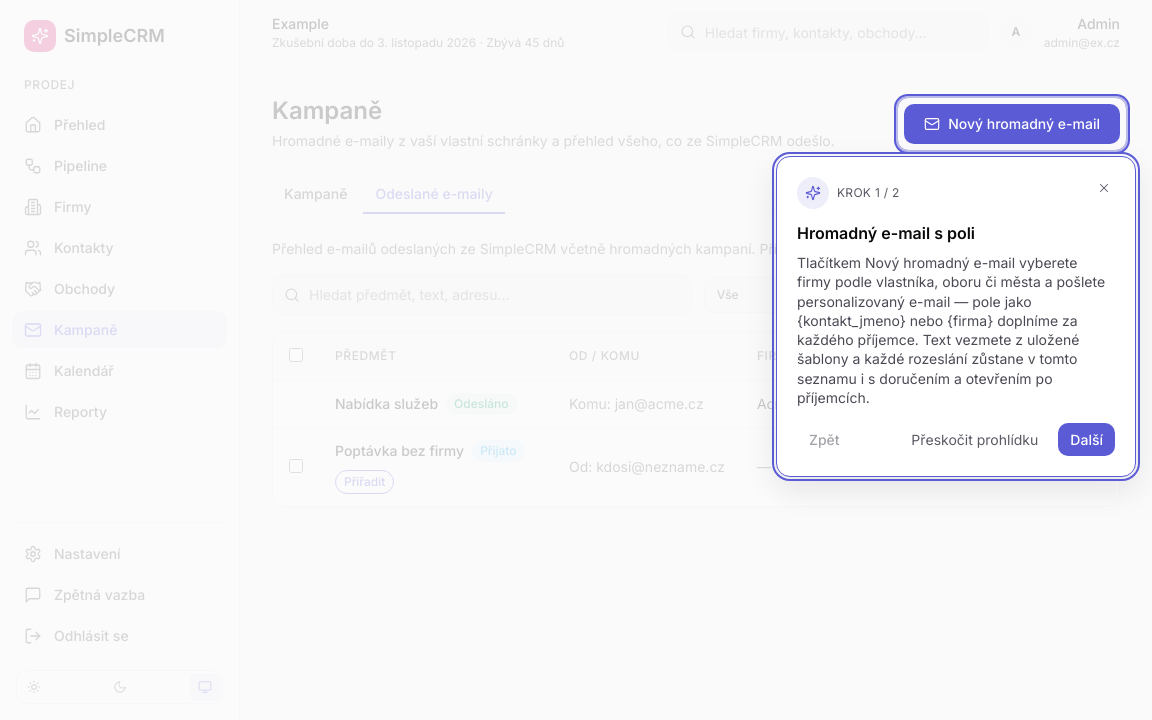
Test: Kampaně page › offers Přiřadit only on unmatched rows and opens the link dialog
The width and height of the screenshot is (1152, 720).
Expected: the button "Poptávka bez firmy" is shown, x1=335 y1=440 x2=464 y2=461
Click the button "Přiřadit" at (365, 482), box x1=335 y1=470 x2=394 y2=494
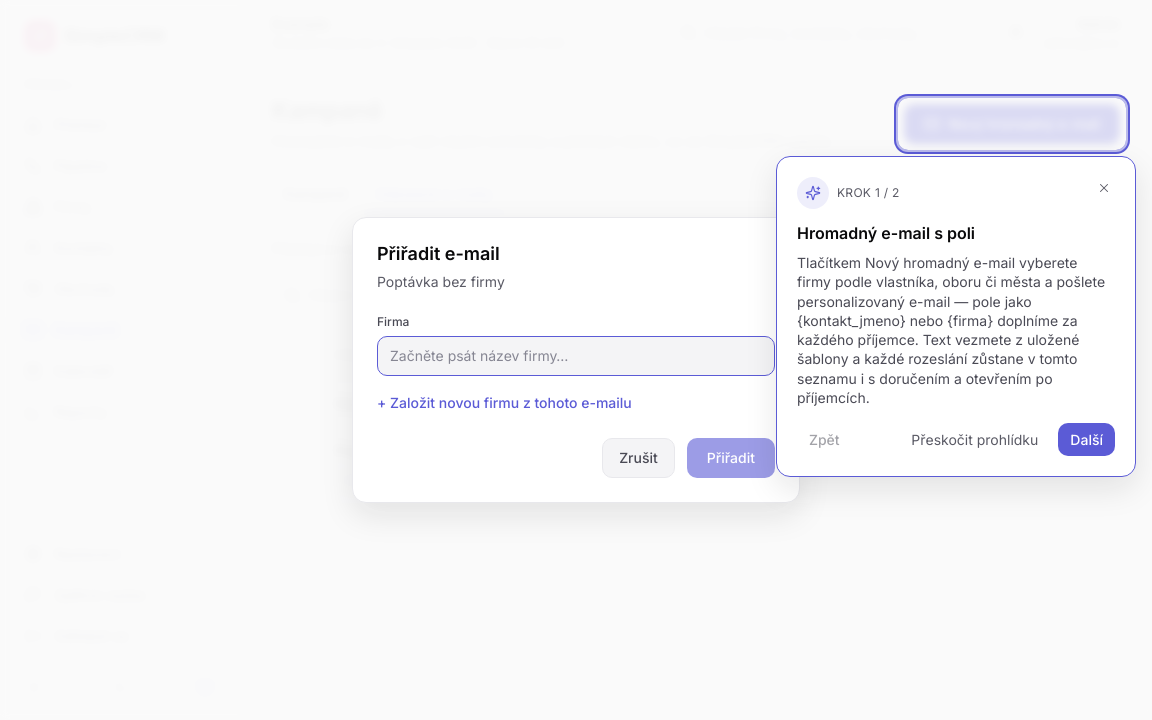
Expected: the dialog with test id "mail-link-dialog" is shown
Expected: the button with test id "mail-link-submit" is disabled, x1=687 y1=438 x2=775 y2=478
